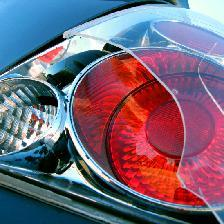broken_light: (54, 26, 122, 73)
